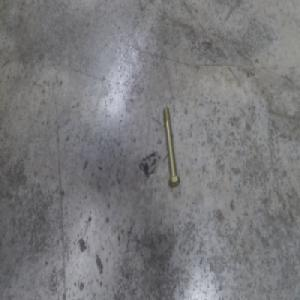Bolt: (162, 107, 179, 186)
